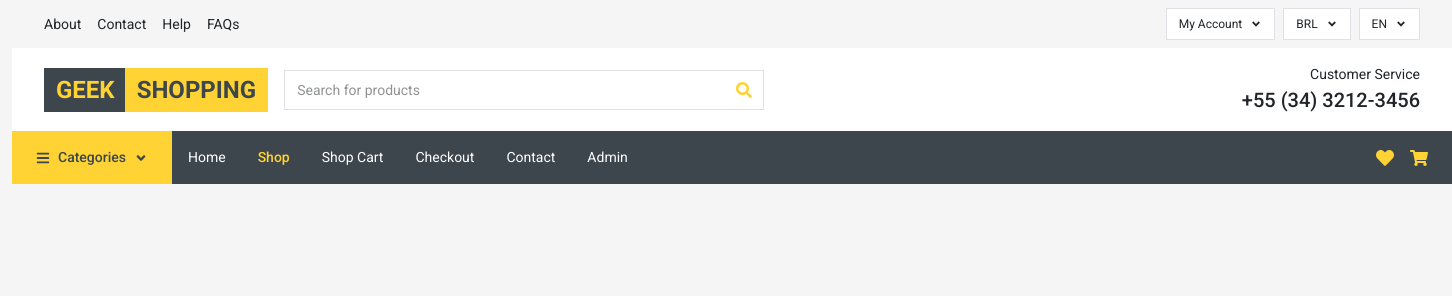
Test: Header › updates the cart badge when a product is added
This screenshot has width=1452, height=296.
Click the button "Categories" at x=92, y=158, box left=12, top=131, right=172, bottom=184
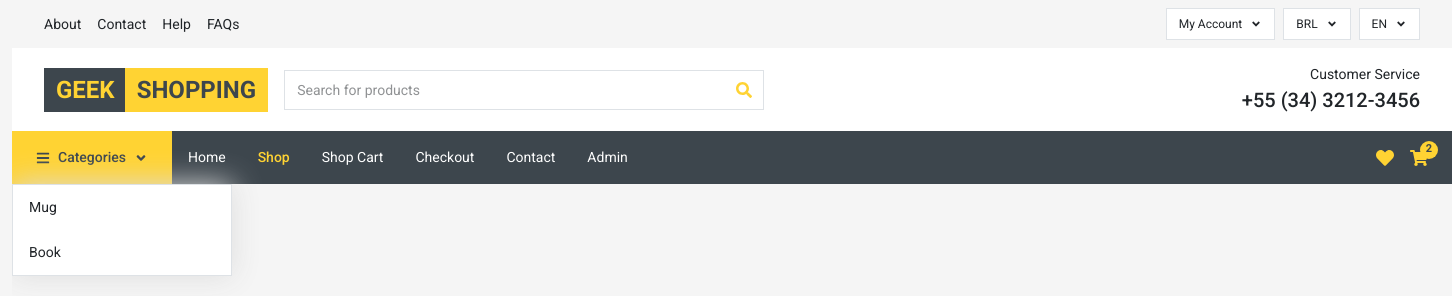
Expected: the link named "2 items in cart" is shown, left=1410, top=148, right=1428, bottom=166
